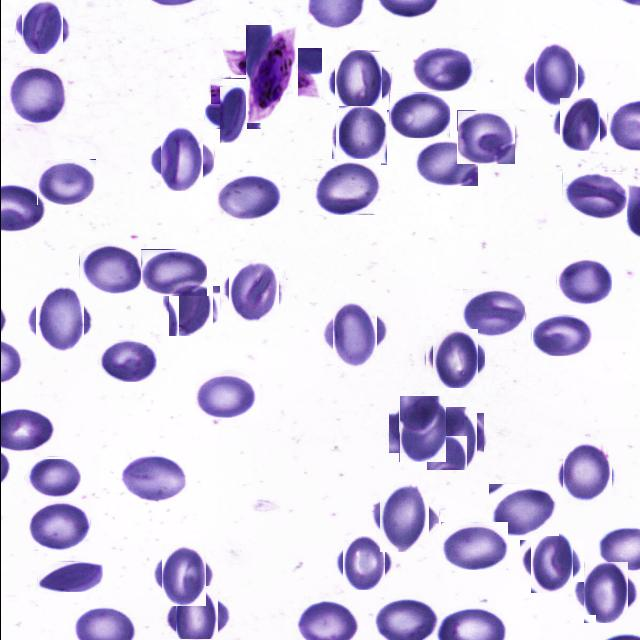gametocyte: (234, 36, 309, 112)
red blood cell: (312, 159, 380, 215), (29, 288, 90, 348), (488, 484, 558, 536), (373, 487, 433, 547), (118, 454, 187, 503), (27, 498, 90, 551), (137, 249, 208, 296), (558, 445, 615, 503), (422, 409, 480, 466), (9, 66, 66, 124), (78, 241, 140, 294), (393, 401, 450, 458), (224, 262, 282, 318), (440, 522, 507, 570), (326, 306, 383, 362), (193, 370, 259, 418), (330, 54, 386, 110), (332, 108, 388, 164), (456, 110, 514, 164), (561, 172, 626, 220), (526, 49, 582, 104), (462, 289, 524, 338), (217, 174, 280, 221), (524, 534, 578, 588), (154, 132, 208, 186), (156, 548, 210, 602), (579, 565, 632, 619), (428, 332, 481, 386), (388, 92, 449, 138), (415, 141, 477, 186), (36, 159, 95, 205), (166, 282, 216, 334), (169, 591, 222, 640), (412, 48, 472, 91), (556, 259, 611, 305), (97, 340, 156, 382), (531, 315, 591, 356), (18, 4, 66, 52), (340, 539, 388, 587), (23, 458, 80, 498), (556, 100, 603, 148), (209, 74, 280, 104), (36, 561, 102, 592), (211, 94, 253, 136)
